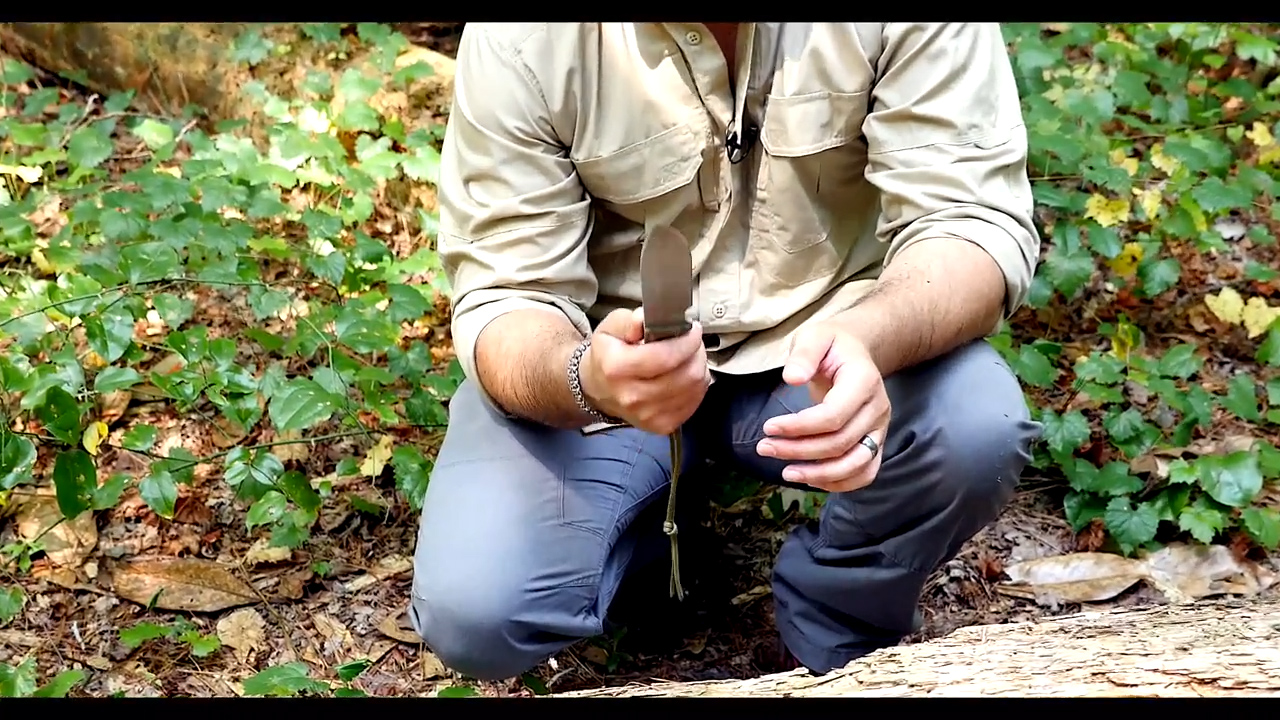knife: (606, 215, 714, 401)
